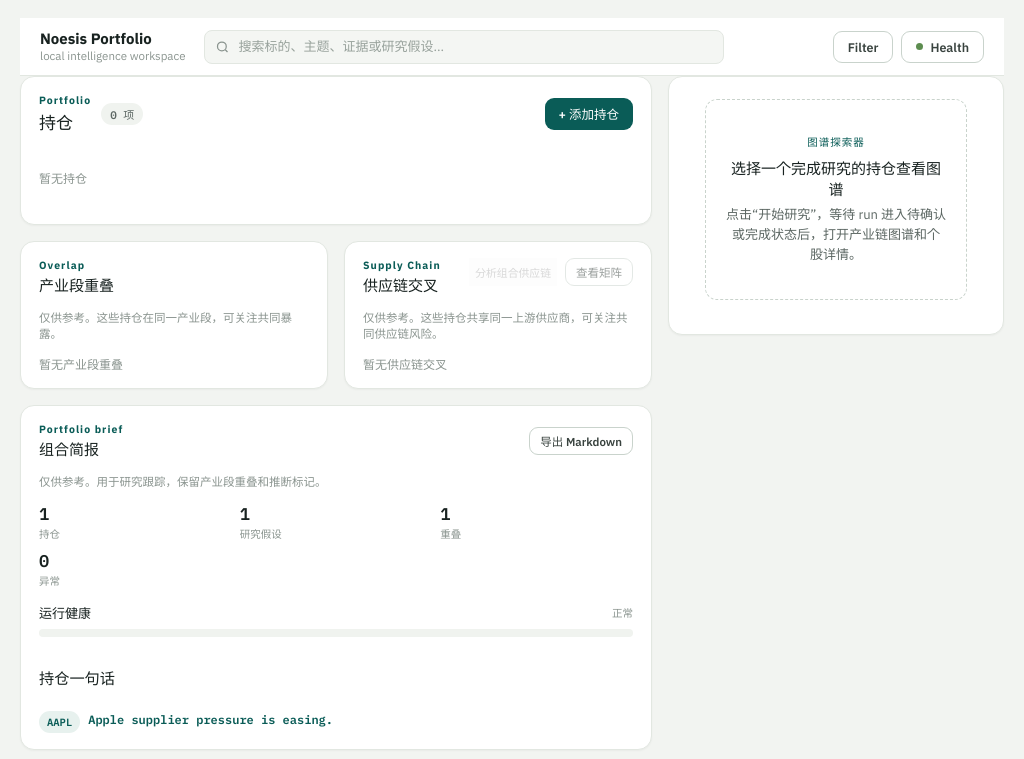
Test: PortfolioHome › creates a company-name-only position when the ticker is unknown
The width and height of the screenshot is (1024, 759).
Expected: the text "暂无持仓" is shown, [39,171,87,186]
Click the button "+ 添加持仓".
click(589, 114)  # box [544,98,633,130]
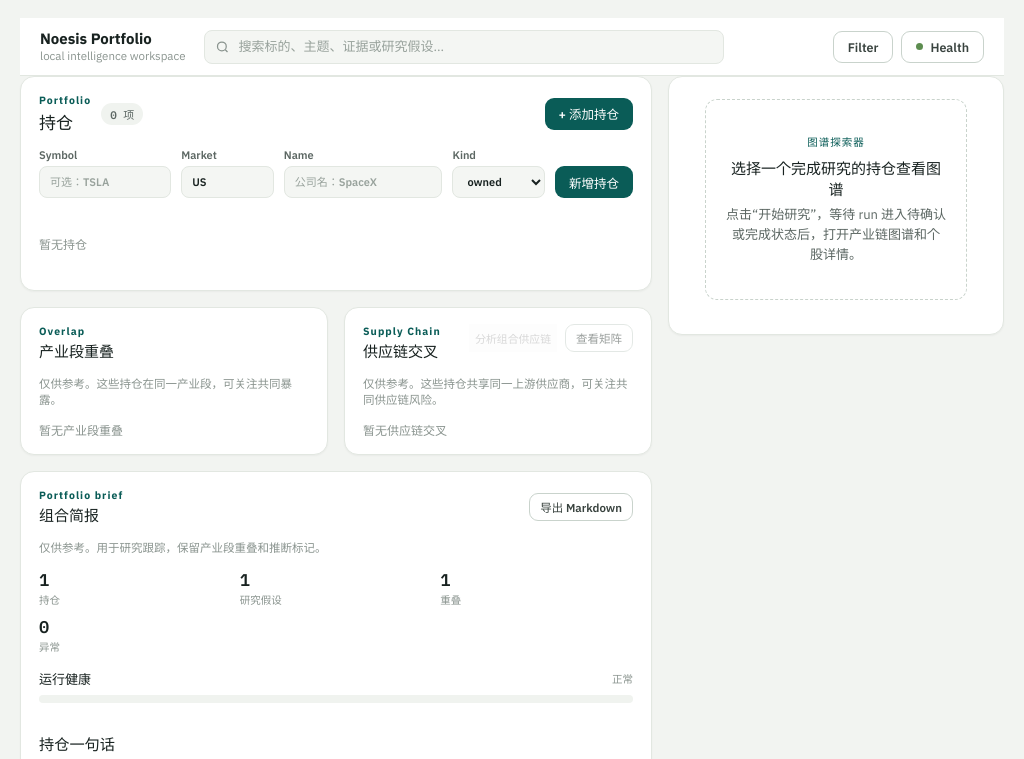
Type "SpaceX" into the field labelled "Name".
click(363, 182); type("SpaceX")  # box [284,166,442,198]
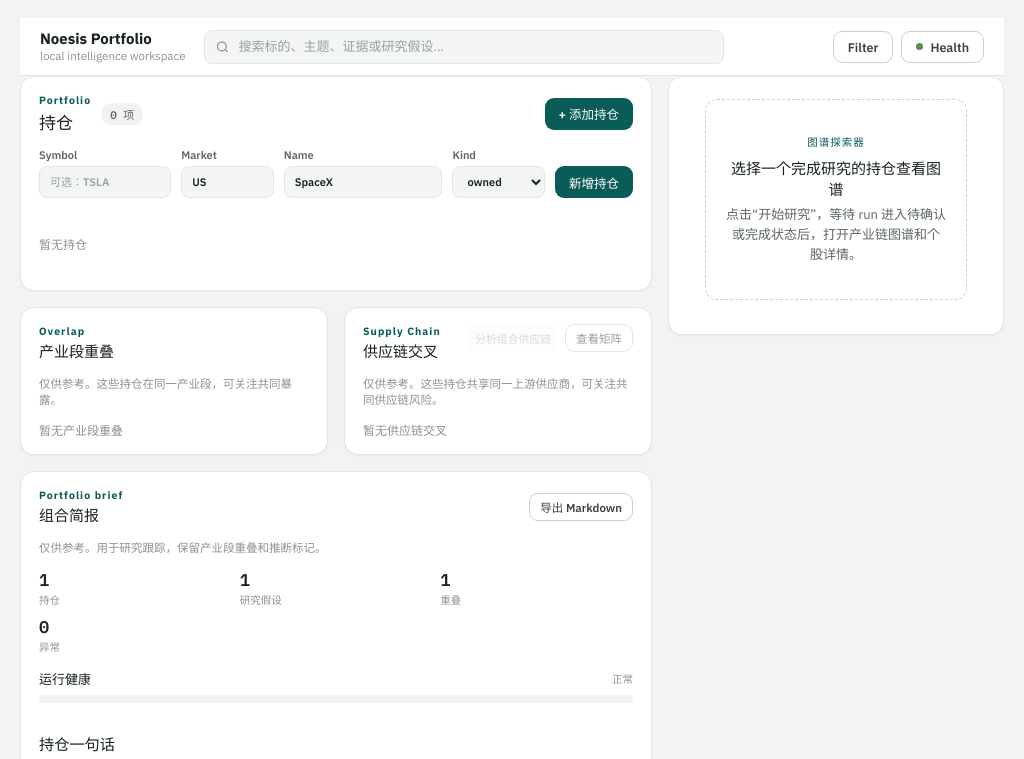
Select "watching" in the dropdown labelled "Kind" at (499, 182), box [452,166,545,198]
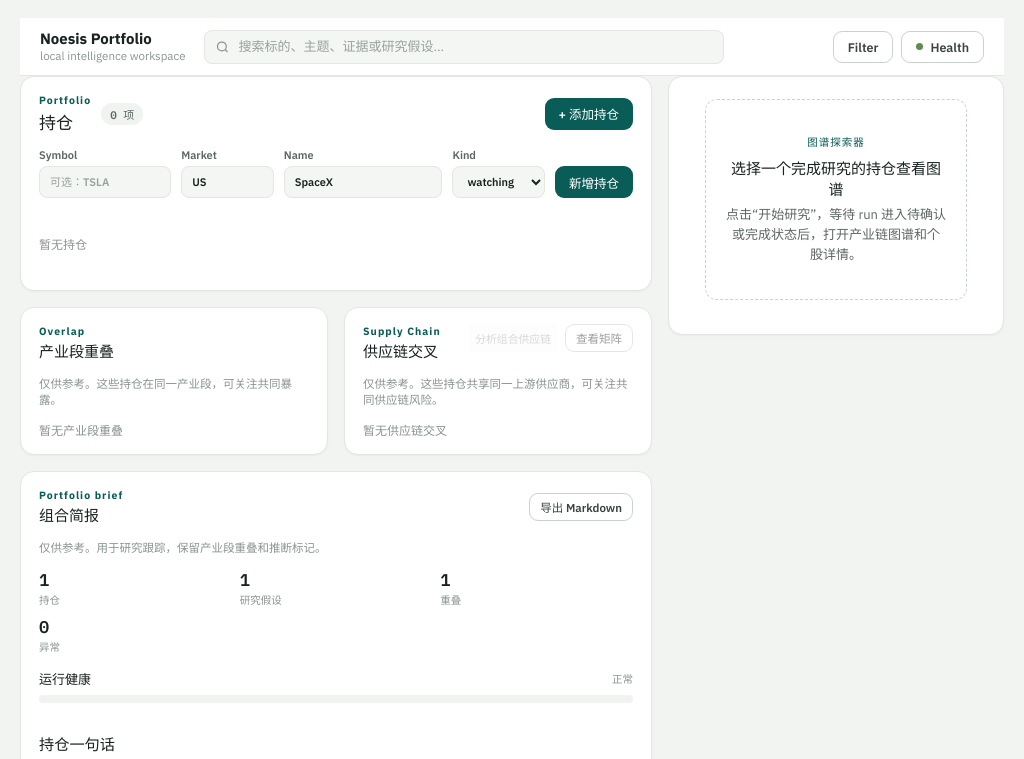
Click the button "新增持仓".
click(594, 182)  # box [555,166,633,198]
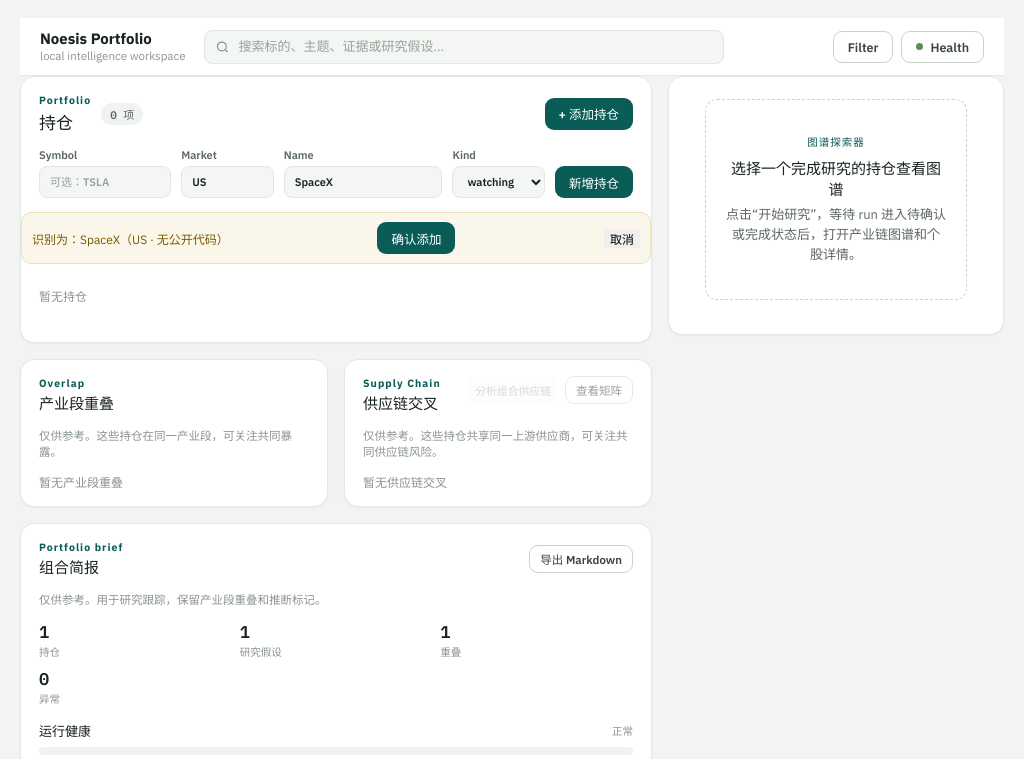
Click the button "确认添加".
click(416, 238)  # box [377,222,455,254]
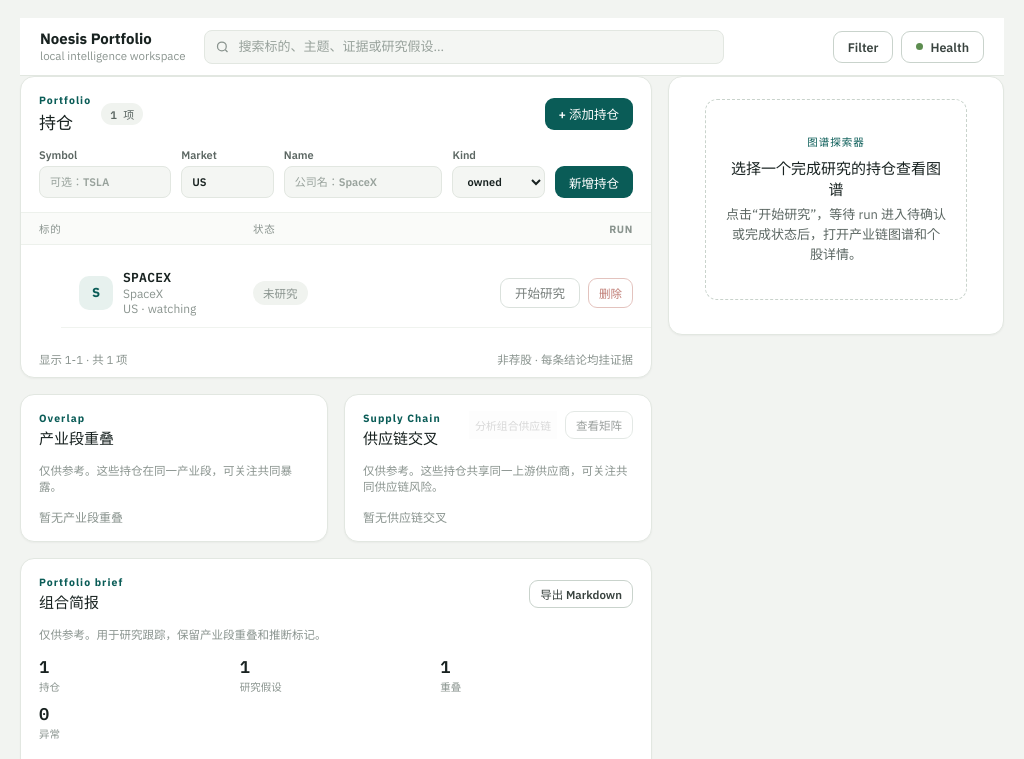
Now the text "SpaceX" is shown, box [123,286,163,301]
